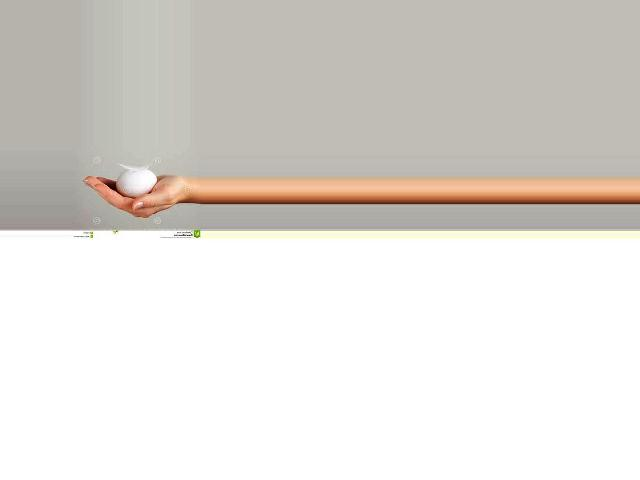egg: (114, 169, 156, 197)
